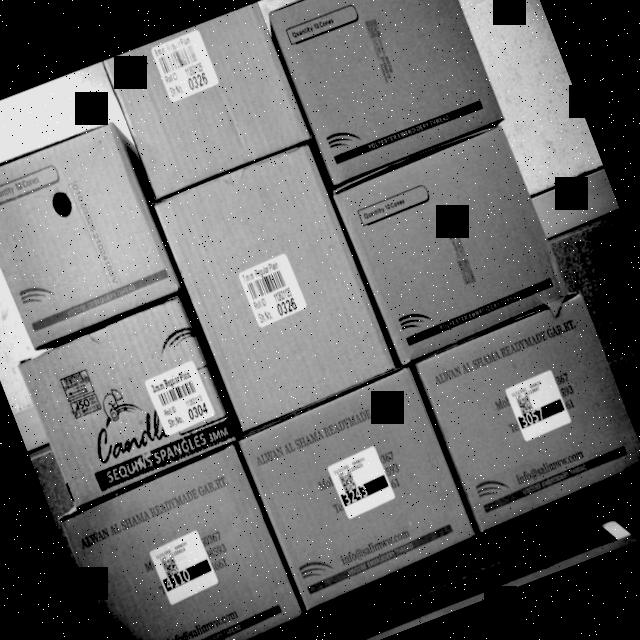box: (154, 139, 405, 435), (232, 372, 479, 616), (335, 122, 568, 367), (412, 296, 640, 538), (10, 289, 242, 513), (60, 453, 307, 640), (0, 107, 184, 356), (264, 0, 501, 185), (104, 2, 310, 198)
